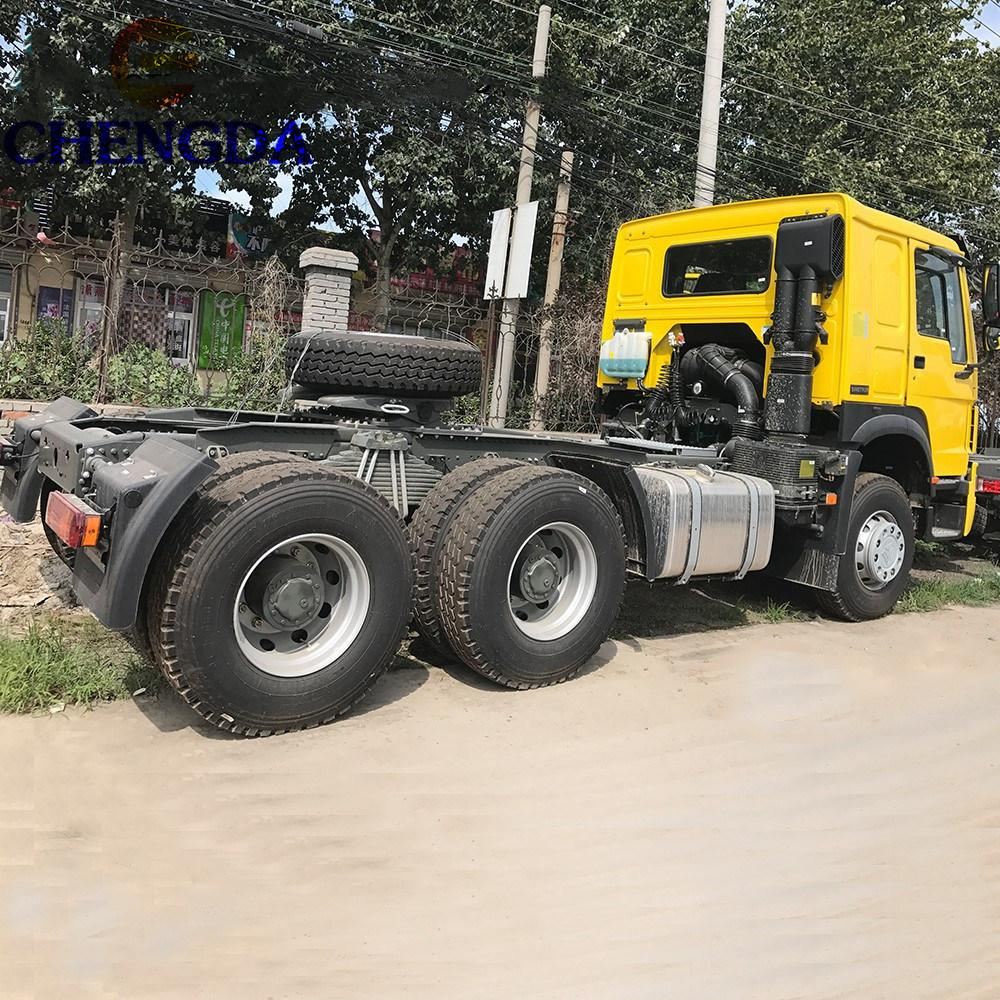vehicle: (0, 191, 1000, 737)
